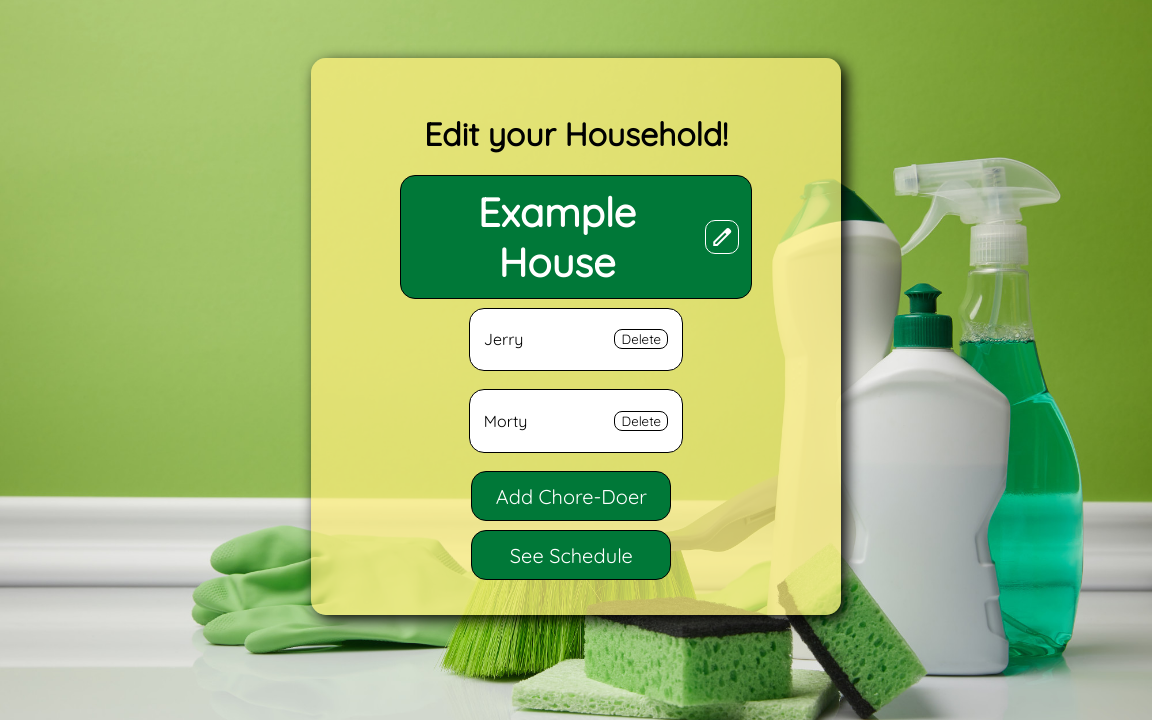
Test case: House Form › should not allow a user to add a member with the same name as another member to their household
expect the text "Morty" is shown: met, box top-left (484, 411), bottom-right (527, 431)
Click the button with class "house-btn" showing "Add Chore-Doer" at (571, 496), box top-left (471, 471), bottom-right (671, 521)
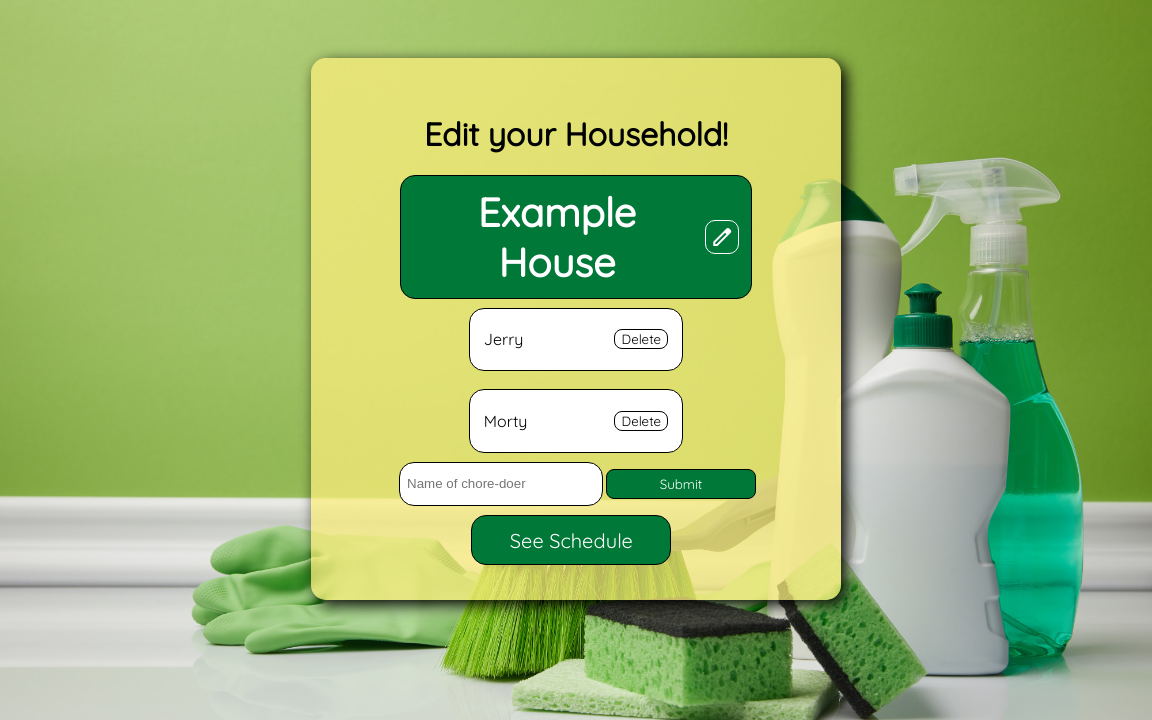
Type "Morty" into the field with id "memberInput" at (501, 484), box top-left (399, 462), bottom-right (603, 506)
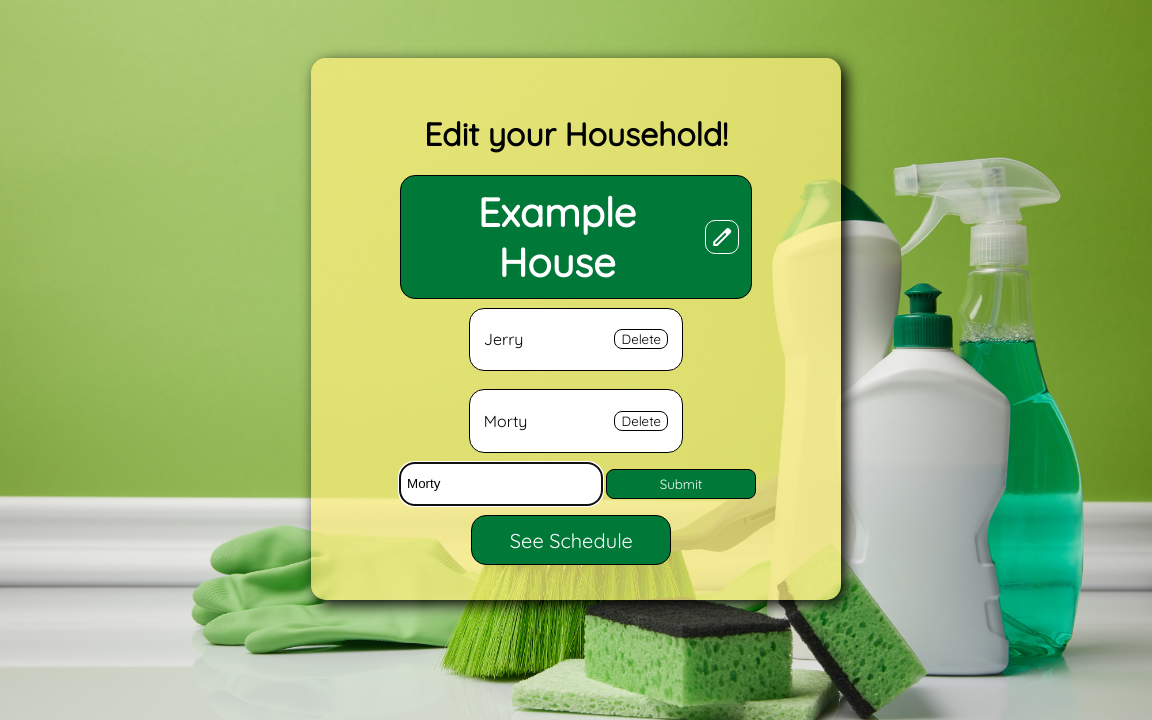
Click the button with class "submit-member" at (681, 484), box top-left (606, 469), bottom-right (756, 499)
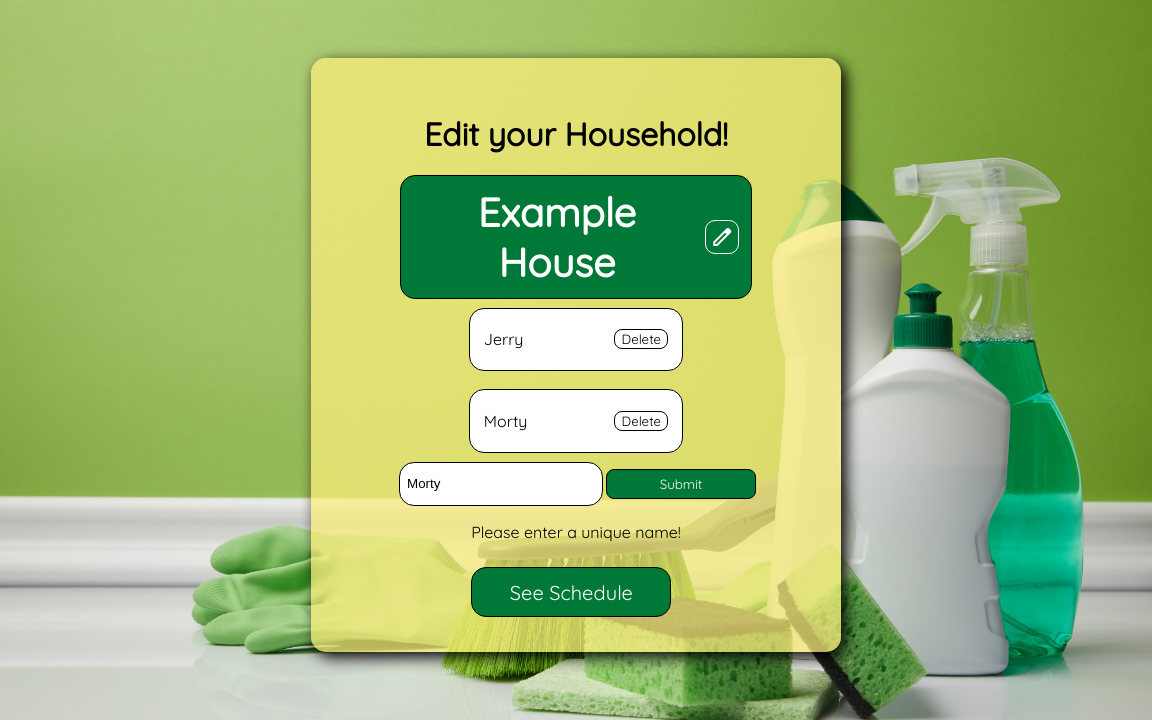
expect the text "Please enter a unique name!" is shown: met, box top-left (471, 522), bottom-right (681, 542)
